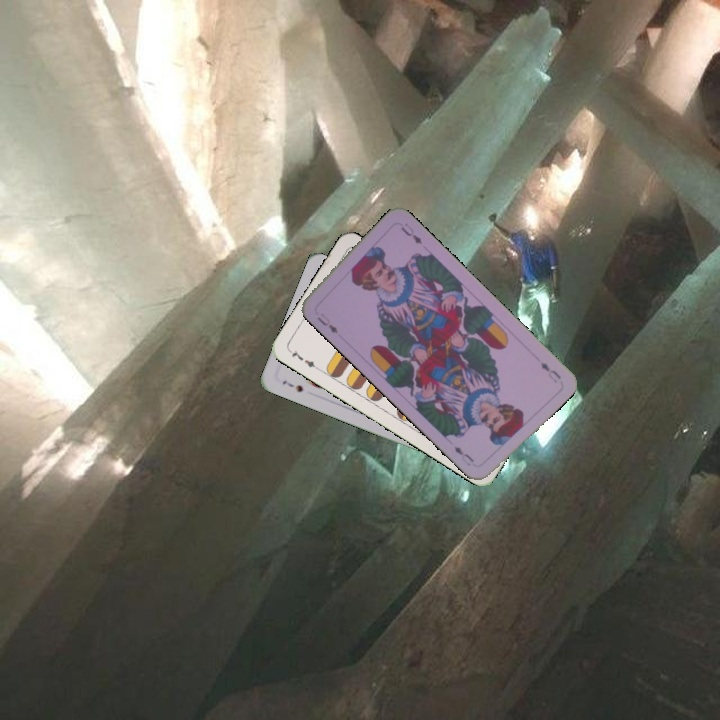E7: (285, 346, 322, 372)
EU: (536, 358, 564, 385), (313, 309, 340, 336)
S7: (278, 376, 306, 395)
